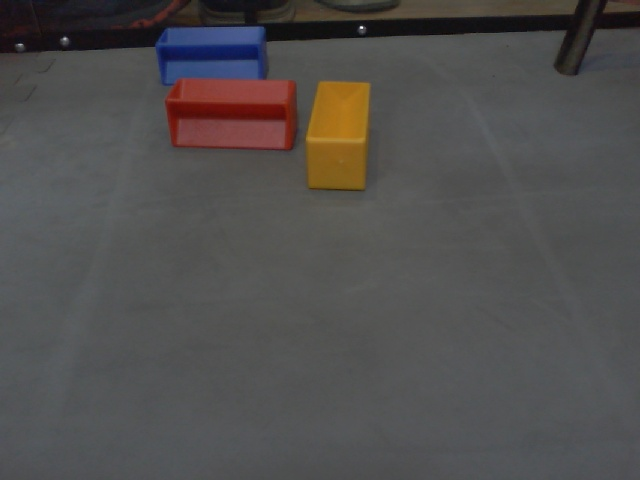BlueSample: (153, 26, 271, 90)
RedSample: (164, 75, 299, 152)
YellowSample: (304, 78, 374, 192)
